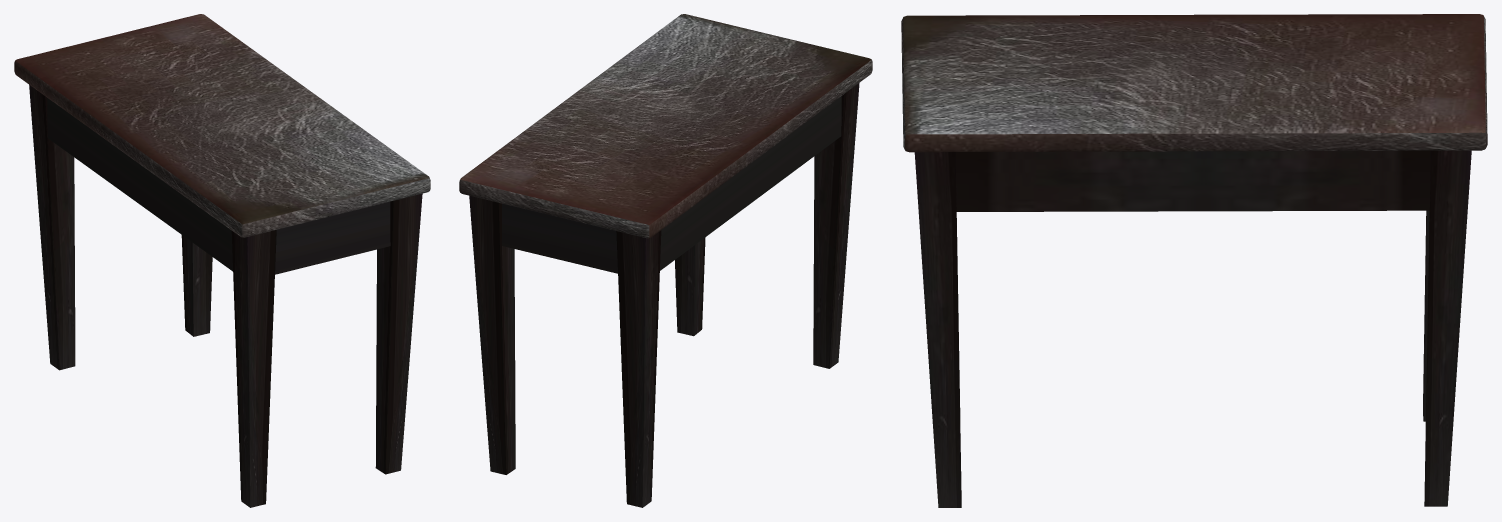
The model's file is desk.gltf.
3 views of the same model, side by side, from view 1: azimuth 30°, elevation 25°; view 2: azimuth 150°, elevation 25°; view 3: azimuth 270°, elevation 25° (orthographic). The views are drawn at different scales.
Visible parts, largest first — view 1: Body; view 2: Body; view 3: Body.
Boxes of the visible parts, <box> form: Body: <box>14,14,430,507</box>; Body: <box>459,14,872,507</box>; Body: <box>901,14,1487,507</box>.
Bounding box in the file's own units: 0.4146 × 0.6114 × 0.8422.
Materials: 2 (2 with a texture image).
